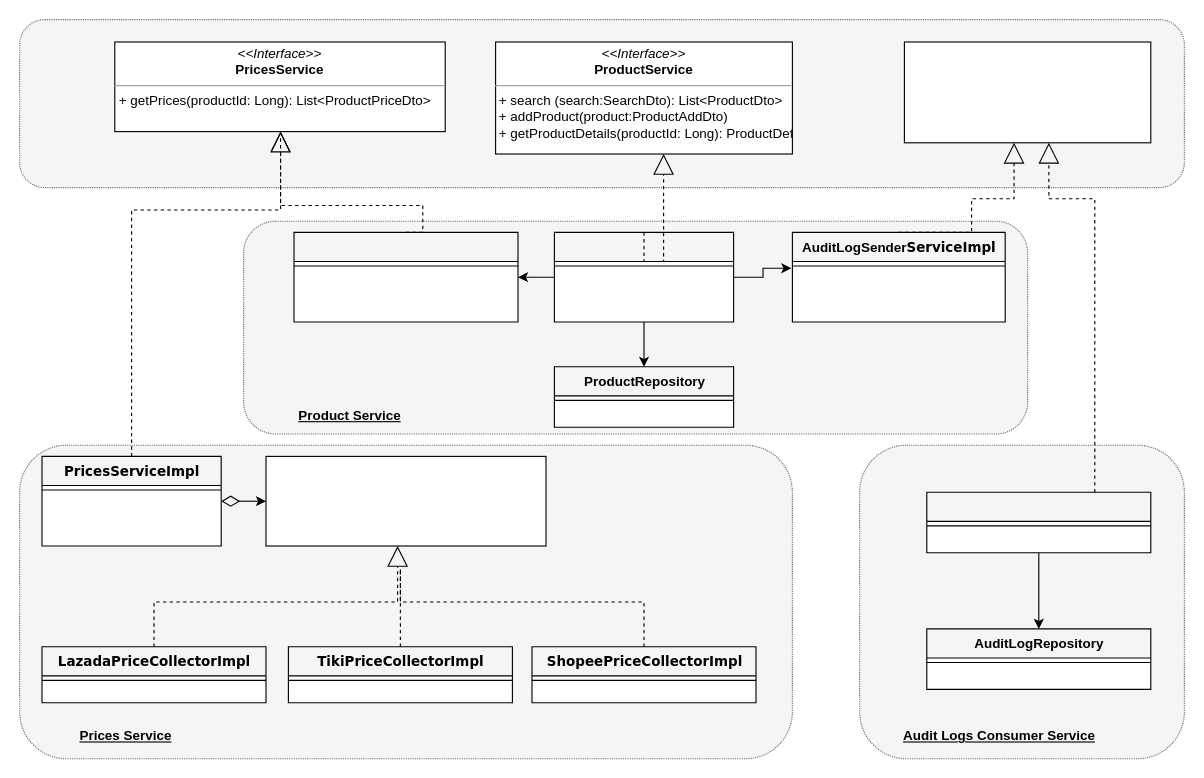
The diagram is 1204 pixels wide and 778 high, and some of its shapes have lost their labels. Here are the shapes that lost their labels. From the top down, the centre of each, then its label:
At point (1027, 92): "<<Interface>> AuditLogService + log(logDto: AuditLogDto)".
At point (405, 276): "PricesServiceHttpClientImpl".
At point (643, 276): "ProductServiceImpl".
At point (405, 500): "<<Interface>> PricesCollector + getPrice(productId:Long): ProductPriceDto".
At point (1038, 522): "AuditLogWriter ServiceImpl".
